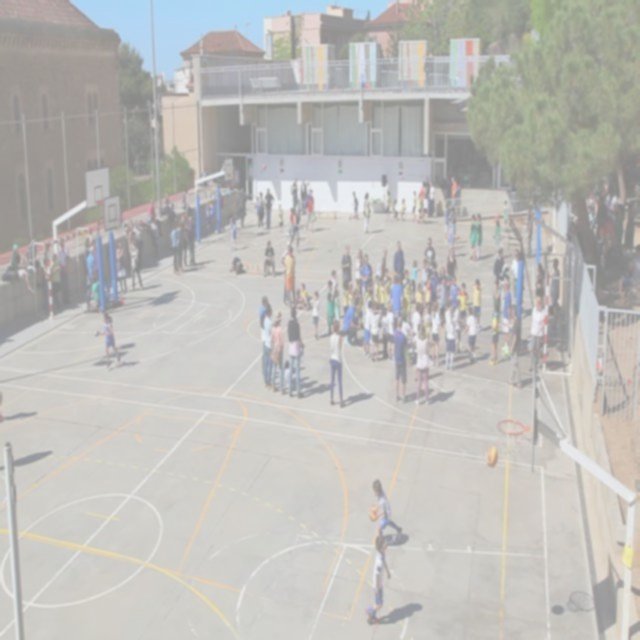pessoa: (162, 189, 198, 276), (584, 173, 620, 260), (363, 530, 391, 630), (368, 476, 403, 547), (414, 323, 436, 408), (289, 362, 337, 400), (286, 304, 304, 400), (392, 314, 410, 406), (327, 318, 345, 410), (526, 292, 546, 374), (268, 308, 286, 396), (10, 242, 36, 296), (618, 242, 640, 302), (98, 312, 121, 369), (378, 598, 424, 626), (411, 173, 434, 227), (508, 304, 522, 388), (324, 266, 340, 334), (341, 284, 372, 319), (262, 302, 274, 392), (468, 276, 486, 334), (461, 304, 478, 364), (368, 301, 384, 364), (127, 230, 143, 292), (342, 296, 361, 347), (500, 278, 512, 358), (388, 274, 404, 334), (258, 294, 269, 378), (57, 236, 70, 307), (444, 306, 457, 374), (444, 305, 457, 372), (360, 252, 373, 318), (48, 249, 62, 308), (429, 298, 441, 366), (84, 243, 96, 310), (284, 243, 296, 310), (280, 240, 292, 306), (383, 302, 396, 362), (374, 266, 393, 306), (287, 206, 302, 256), (456, 280, 470, 333), (436, 264, 450, 316), (509, 246, 521, 306), (443, 201, 458, 248), (566, 209, 586, 243), (549, 256, 562, 308), (116, 238, 128, 294), (147, 197, 163, 239), (490, 300, 500, 367), (361, 298, 372, 358), (302, 187, 316, 234), (392, 238, 405, 286), (150, 216, 162, 268), (295, 281, 313, 315), (234, 185, 248, 228), (412, 322, 422, 382), (262, 238, 277, 278), (354, 246, 364, 306), (453, 298, 463, 356), (344, 389, 376, 407), (425, 386, 457, 404), (311, 288, 321, 342), (410, 258, 422, 302), (413, 282, 425, 326), (340, 242, 353, 282), (430, 262, 440, 314), (263, 187, 275, 230), (26, 238, 42, 270), (468, 212, 478, 263), (227, 254, 248, 278), (375, 244, 388, 282), (449, 274, 462, 312), (493, 246, 505, 286), (452, 65, 466, 99), (410, 300, 422, 339), (204, 200, 216, 239), (445, 245, 458, 280), (399, 306, 412, 341), (134, 220, 144, 264), (422, 274, 433, 314), (422, 236, 436, 267), (288, 174, 298, 217), (402, 268, 412, 311), (380, 308, 388, 360), (492, 277, 501, 323), (474, 212, 482, 262), (525, 202, 534, 246), (422, 303, 432, 342), (228, 214, 238, 250), (362, 191, 370, 236), (276, 201, 285, 240), (493, 217, 501, 260), (300, 176, 308, 216), (420, 260, 430, 292), (256, 200, 266, 230), (199, 164, 209, 194), (384, 189, 392, 223), (450, 174, 458, 208), (352, 191, 360, 221), (258, 189, 264, 228), (284, 359, 291, 392), (398, 196, 407, 221), (91, 240, 98, 272), (359, 68, 367, 96), (253, 195, 261, 222), (534, 261, 542, 288), (502, 198, 508, 232), (392, 198, 400, 222), (444, 298, 452, 322), (84, 236, 93, 255), (126, 217, 134, 236), (0, 386, 4, 422)
